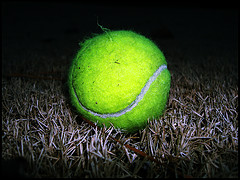tennis ball: (65, 27, 174, 131)
